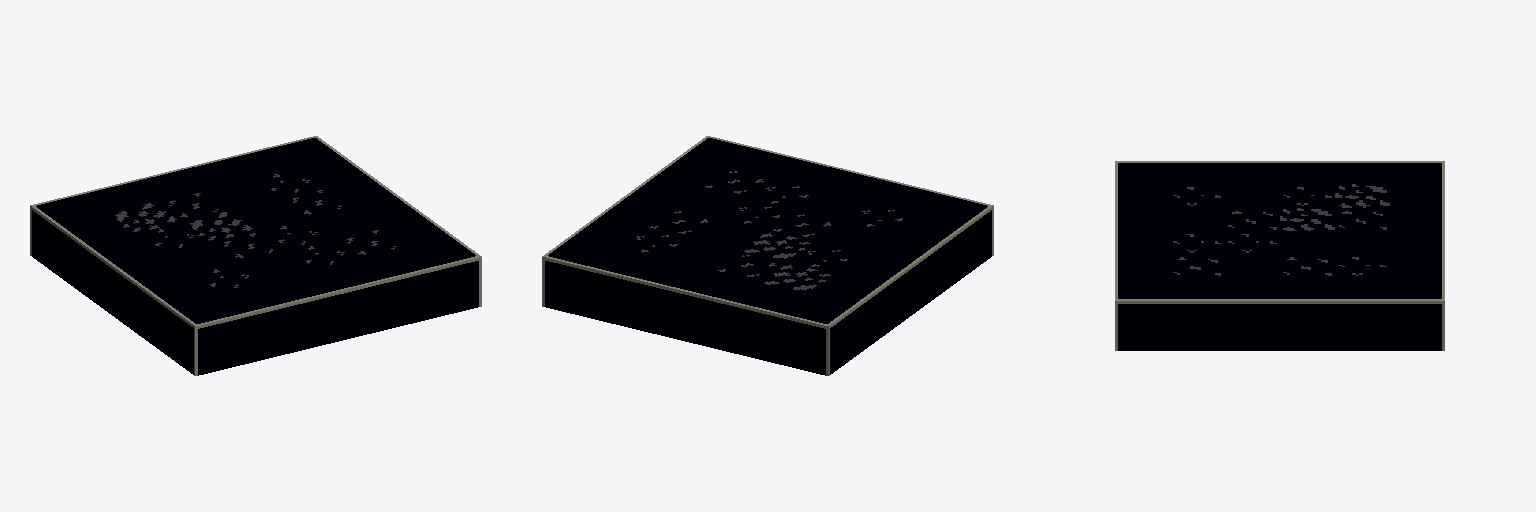
3 renders of one model, left to right at view 1: azimuth 30°, elevation 25°; view 2: azimuth 150°, elevation 25°; view 3: azimuth 270°, elevation 25°, orthographic.
Parts seen in each view (by area): view 1: Default; view 2: Default; view 3: Default.
Part boxes in pixels (left/top/right/bottom): Default: left=30, top=136, right=481, bottom=375; Default: left=542, top=136, right=993, bottom=375; Default: left=1115, top=161, right=1444, bottom=350.
Bounding box in the file's own units: 6 × 1 × 6.
Materials: 1 (1 with a texture image).